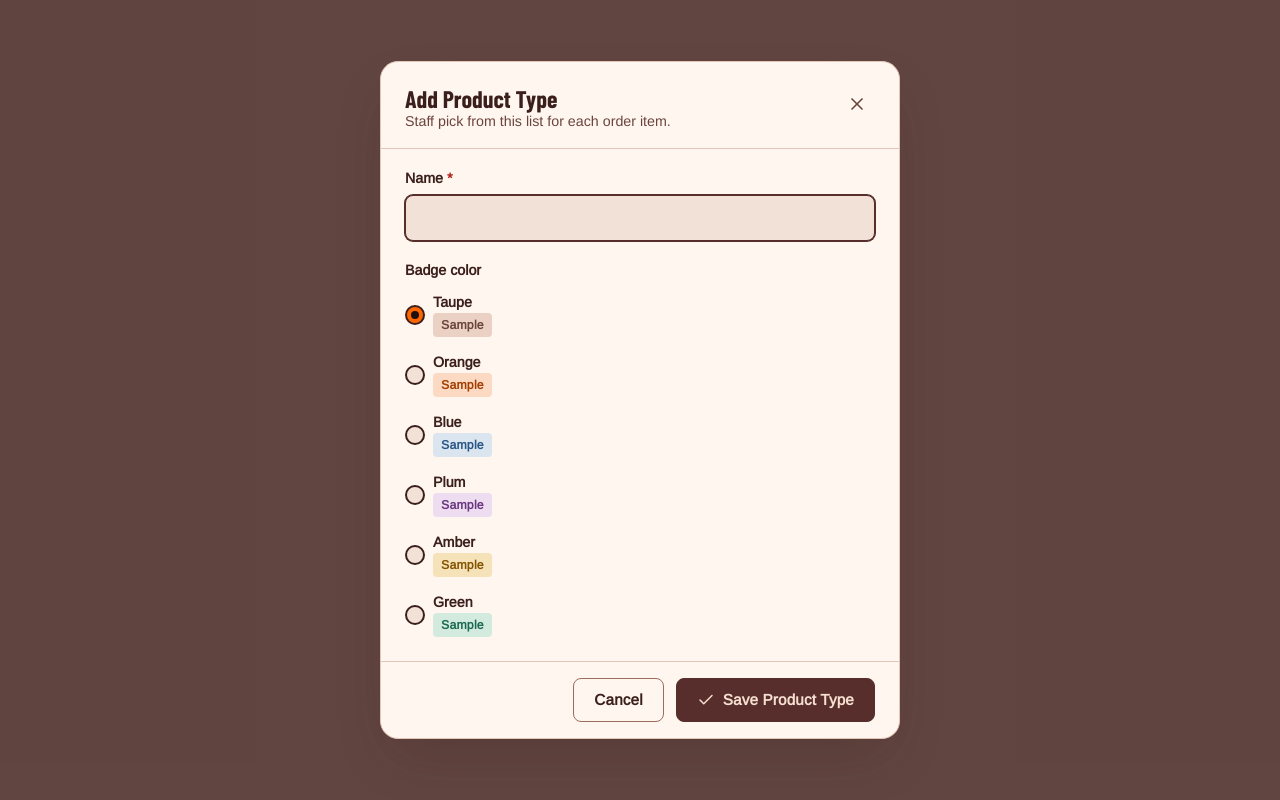
it: S2 order list modal: product-types › shows the server duplicate-name message under Name and keeps what was typed
Type "Cash" into the field labelled "Name *" at coordinates (640, 218), box [406,196,874,240]
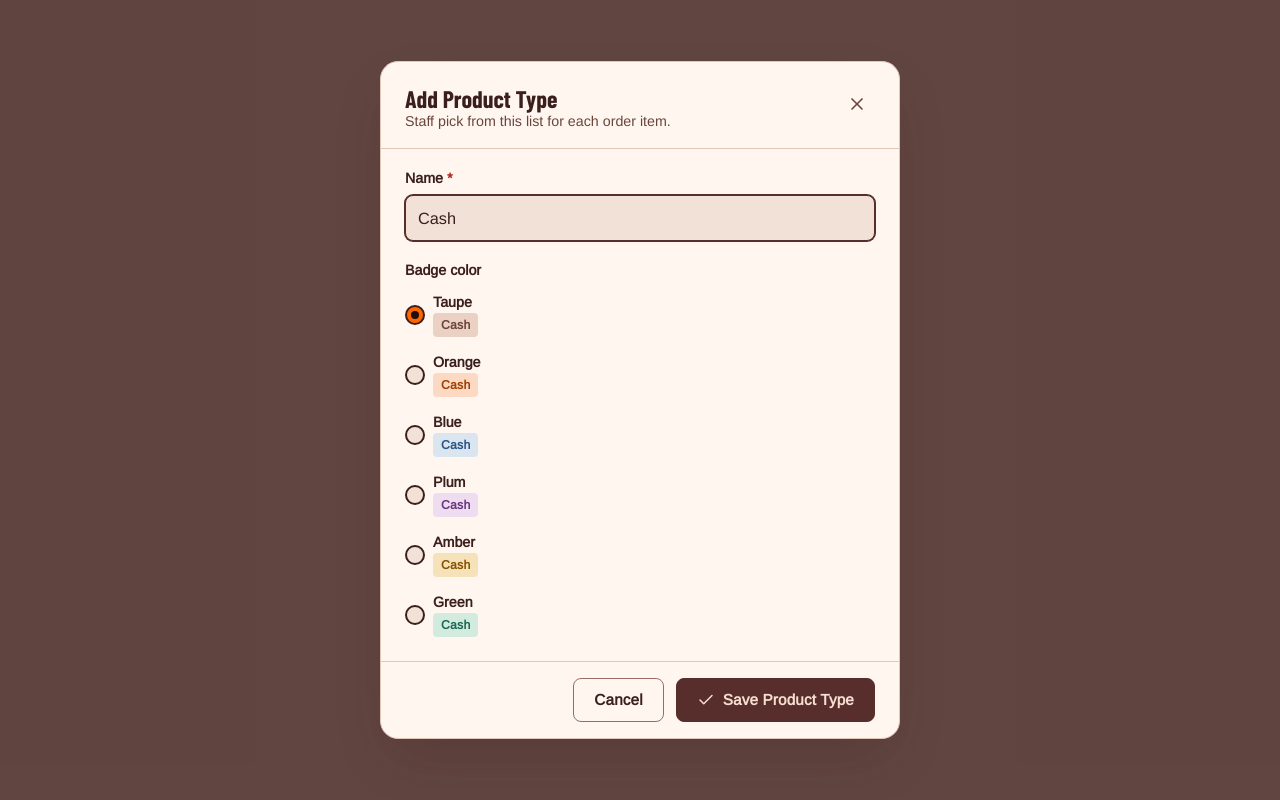
Click the button "Save Product Type" at coordinates (775, 700), box [676,678,875,722]
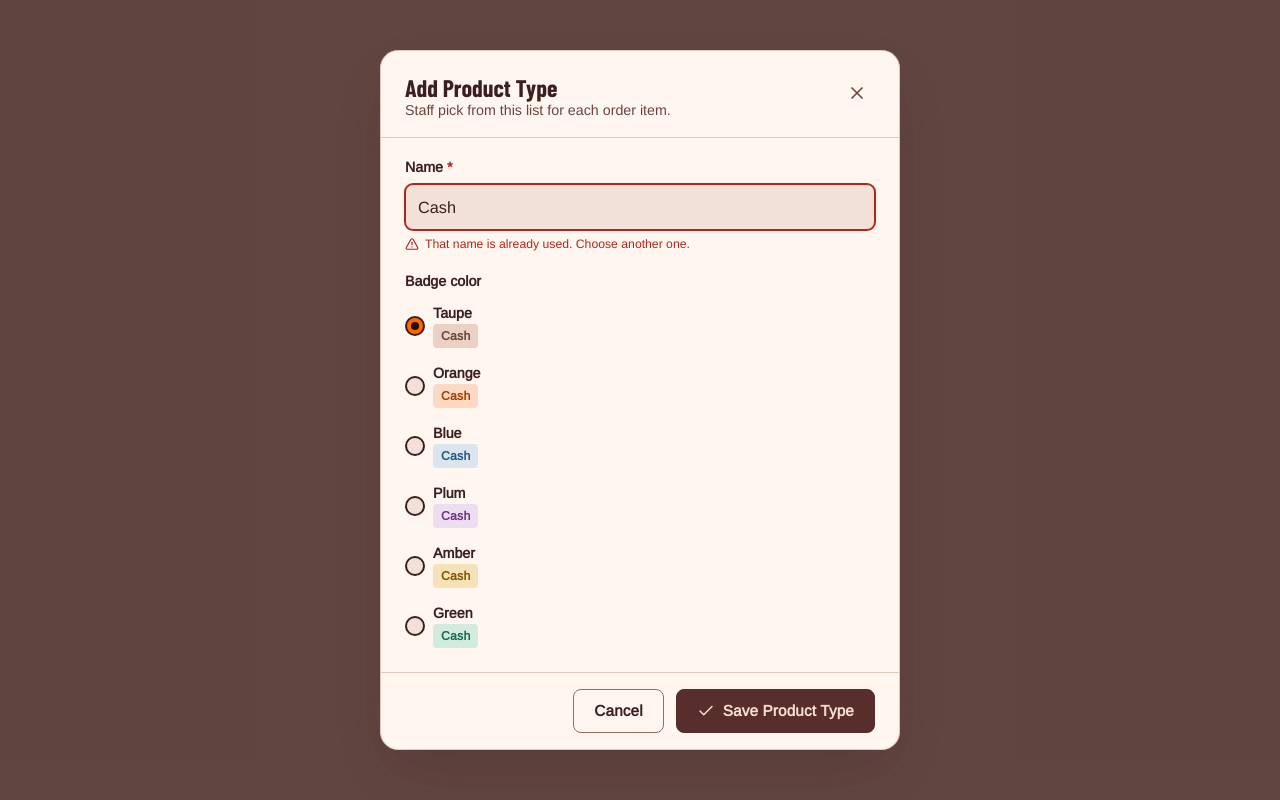
Now the text "That name is already used. Choose another one." is shown, box [405,237,690,251]
